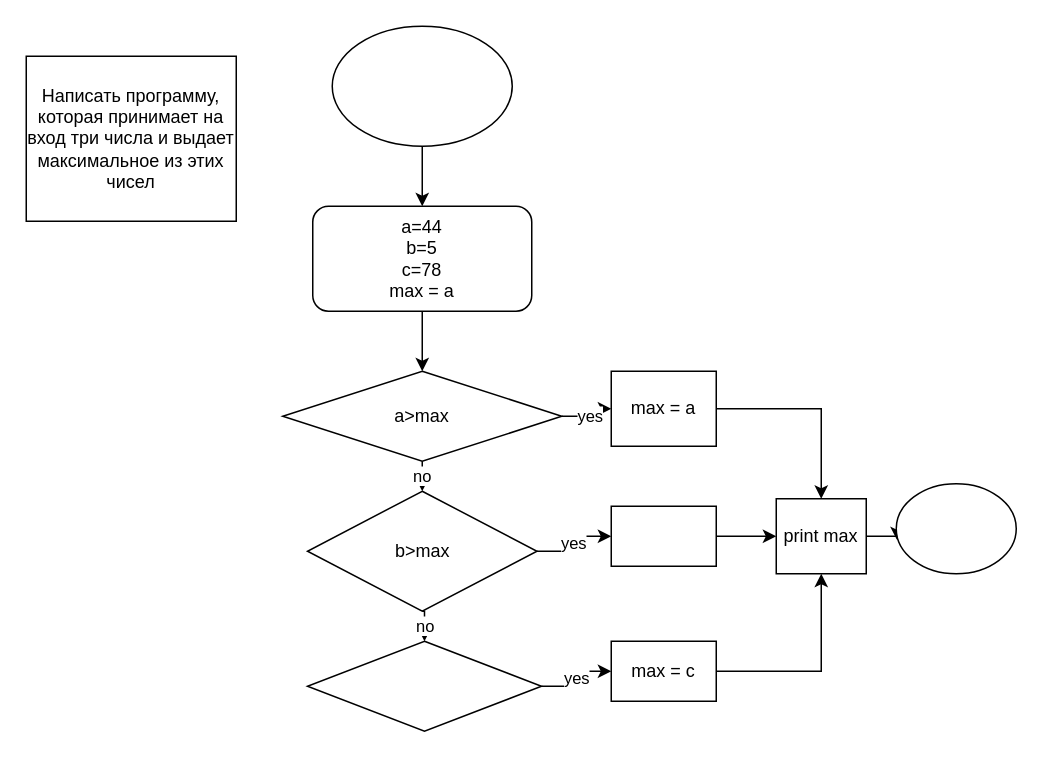
Image size: 1043x758. Some labels were removed from this diagram. The box of each missing label's shape, as (x1, y1, x2, y2) in pixels:
c>max: (306, 640, 542, 731)
end: (895, 482, 1016, 574)
max = b: (610, 505, 716, 566)
start: (331, 25, 512, 146)
